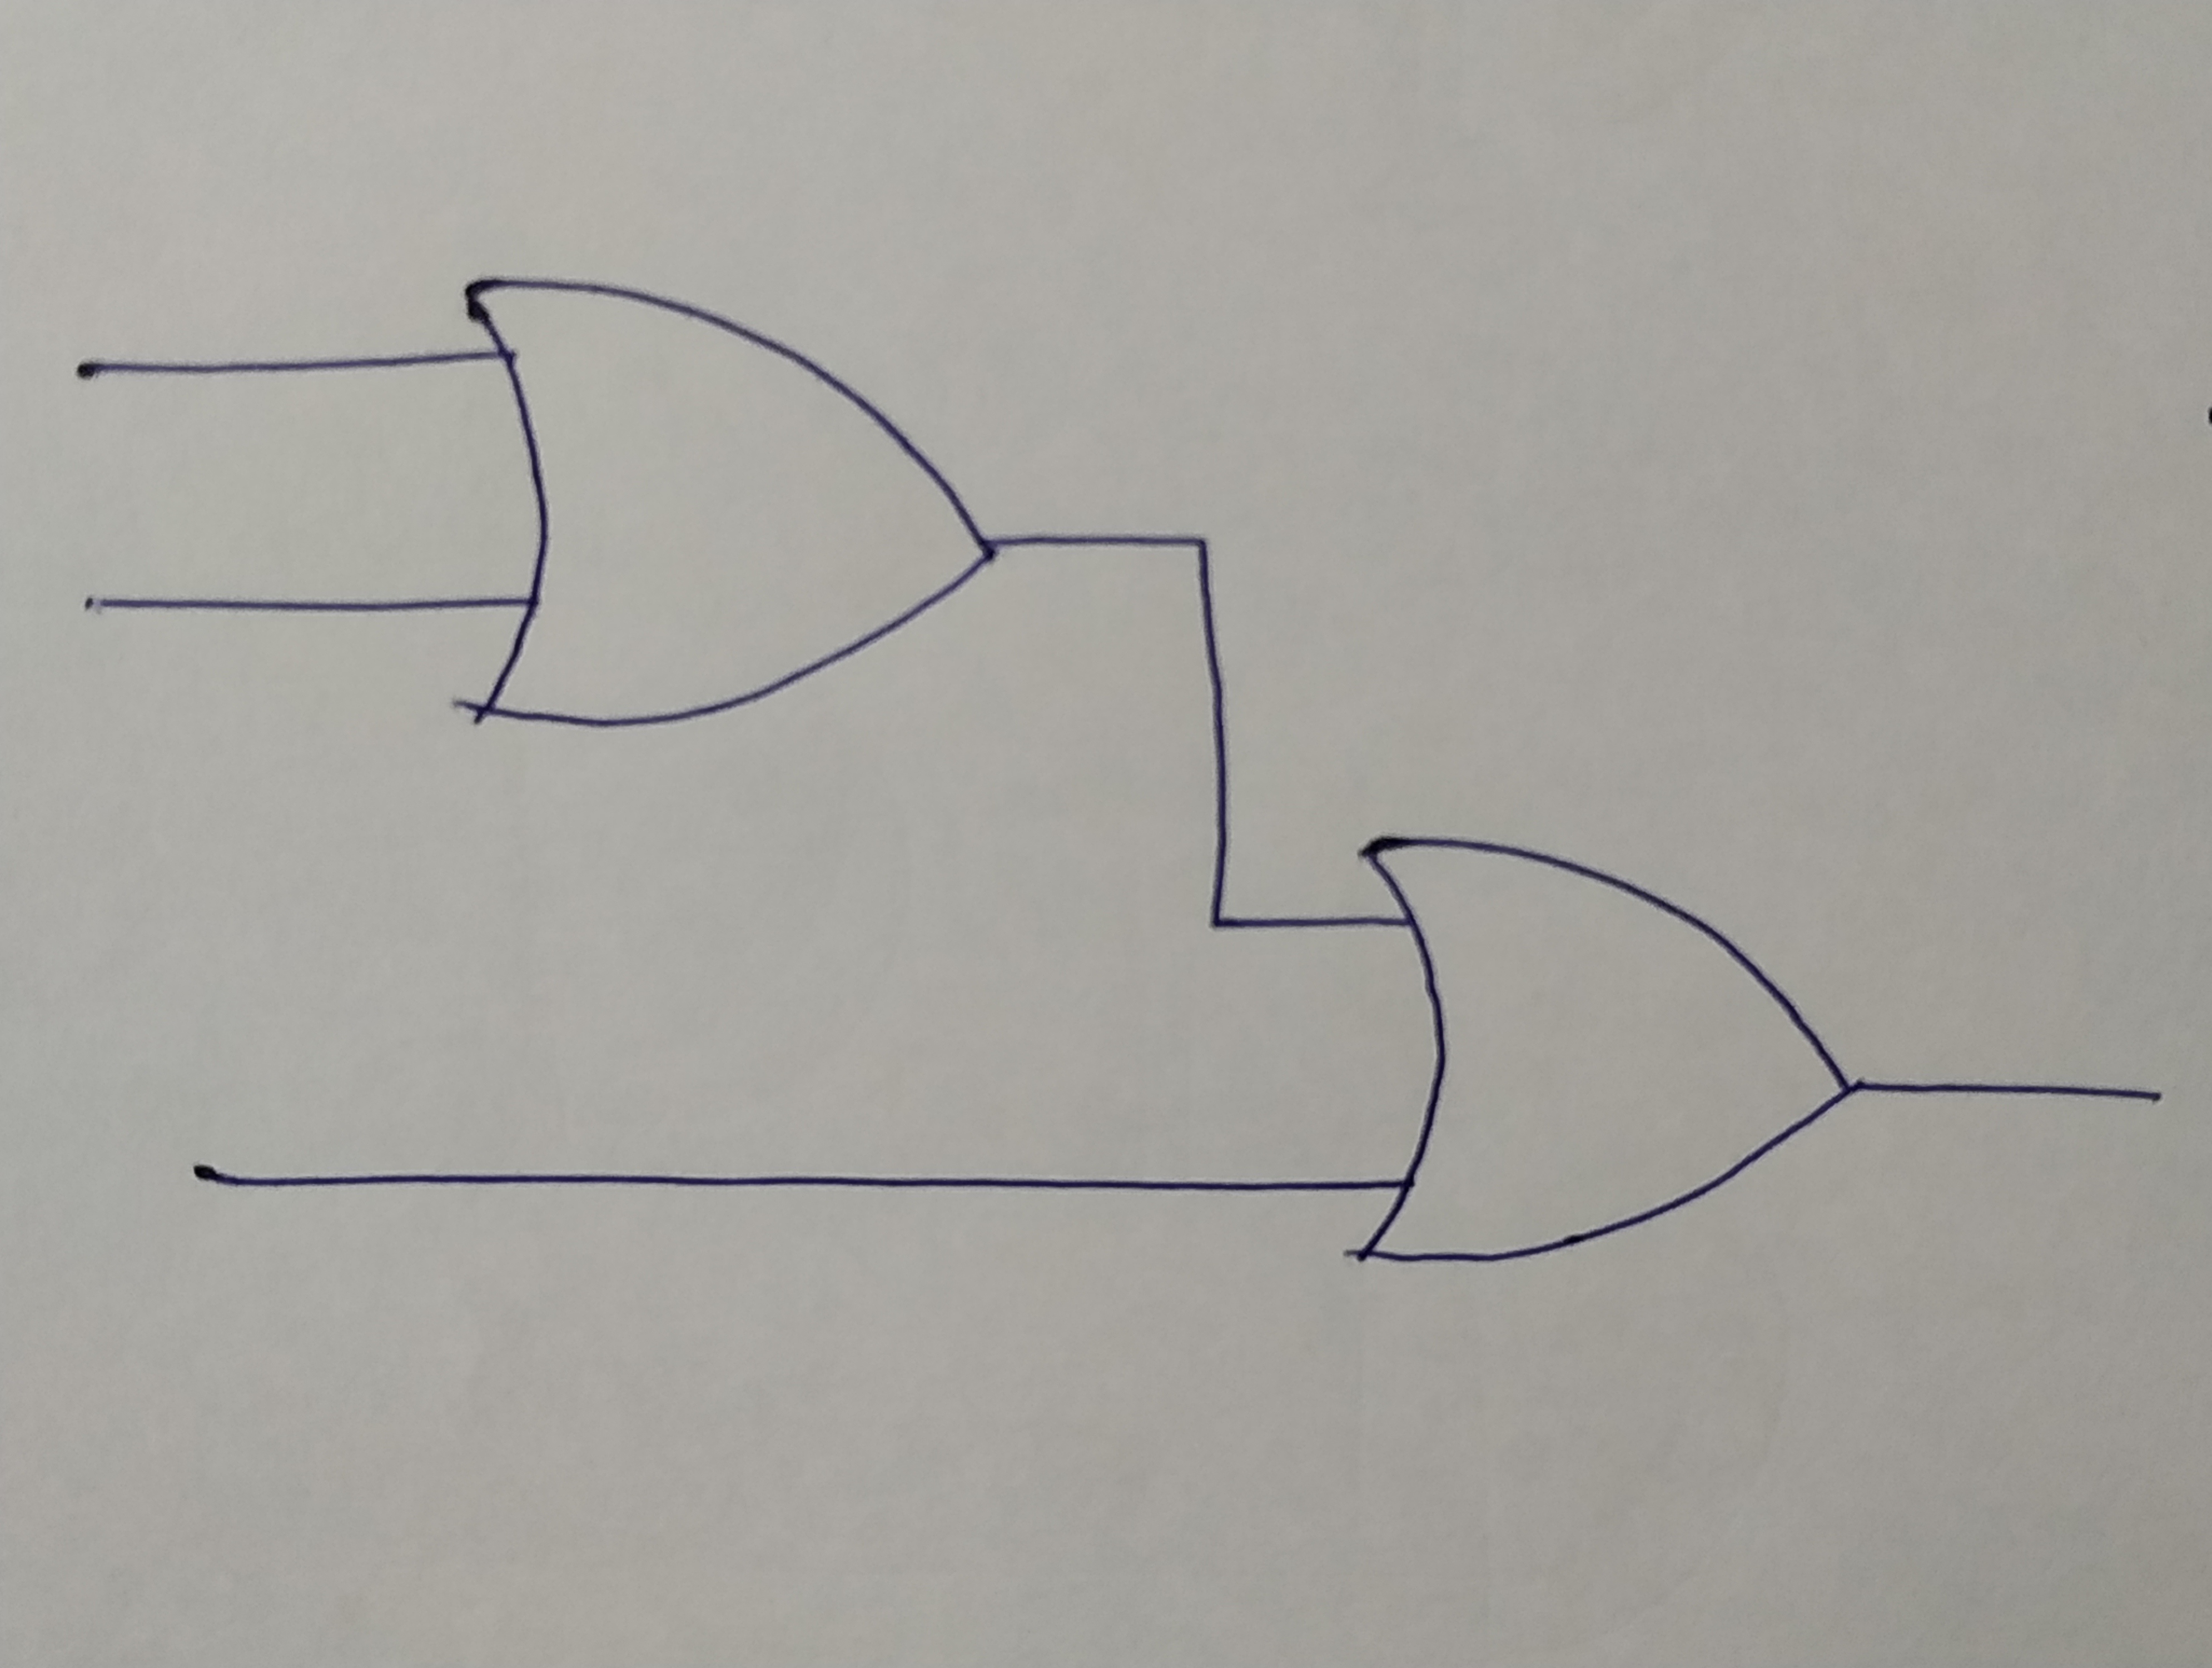or: (459, 279, 995, 722), (1356, 832, 1851, 1274)
